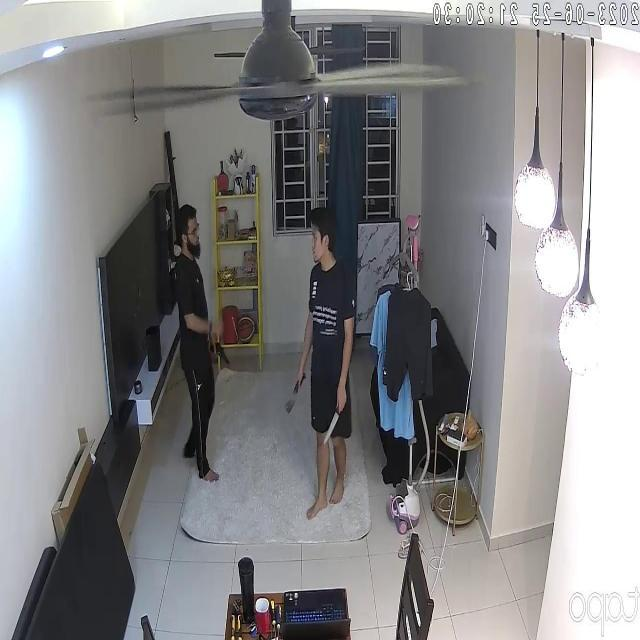Gun: (210, 341, 235, 372)
Knife: (278, 369, 311, 418), (318, 407, 350, 448)
